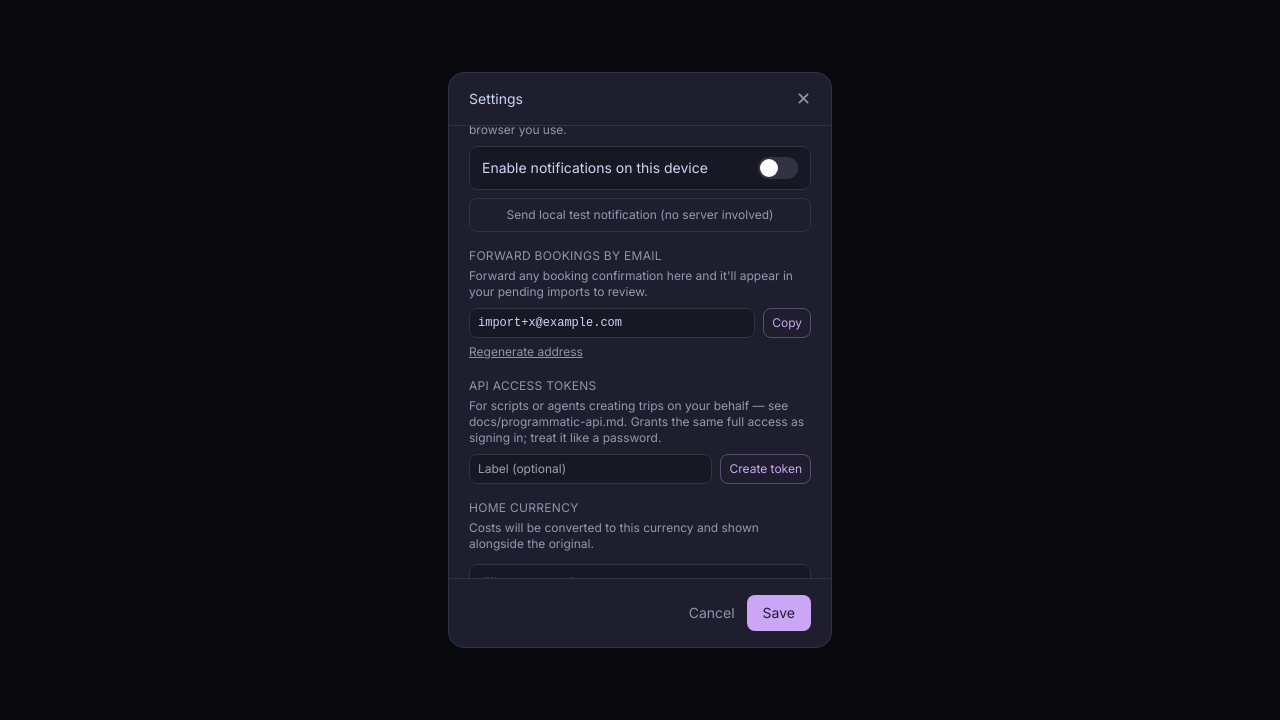
ImportAddress regenerate › shows an error message if rotation fails, without losing the old address
The width and height of the screenshot is (1280, 720).
(page scrolled)
Expected: the text "import+x@example.com" is shown, [469,308,755,338]
Click the button "Regenerate address" at (526, 352), box [469,344,583,360]
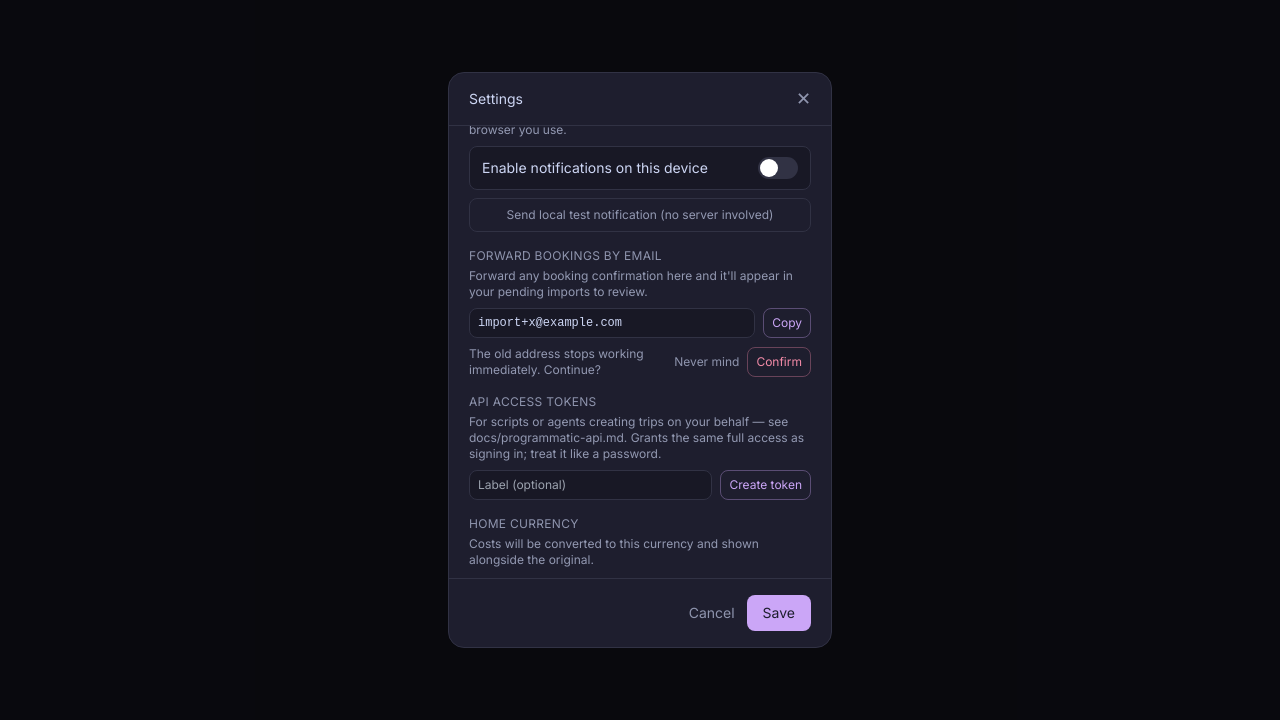
Click the button "Confirm" at (779, 362), box [747,347,811,377]
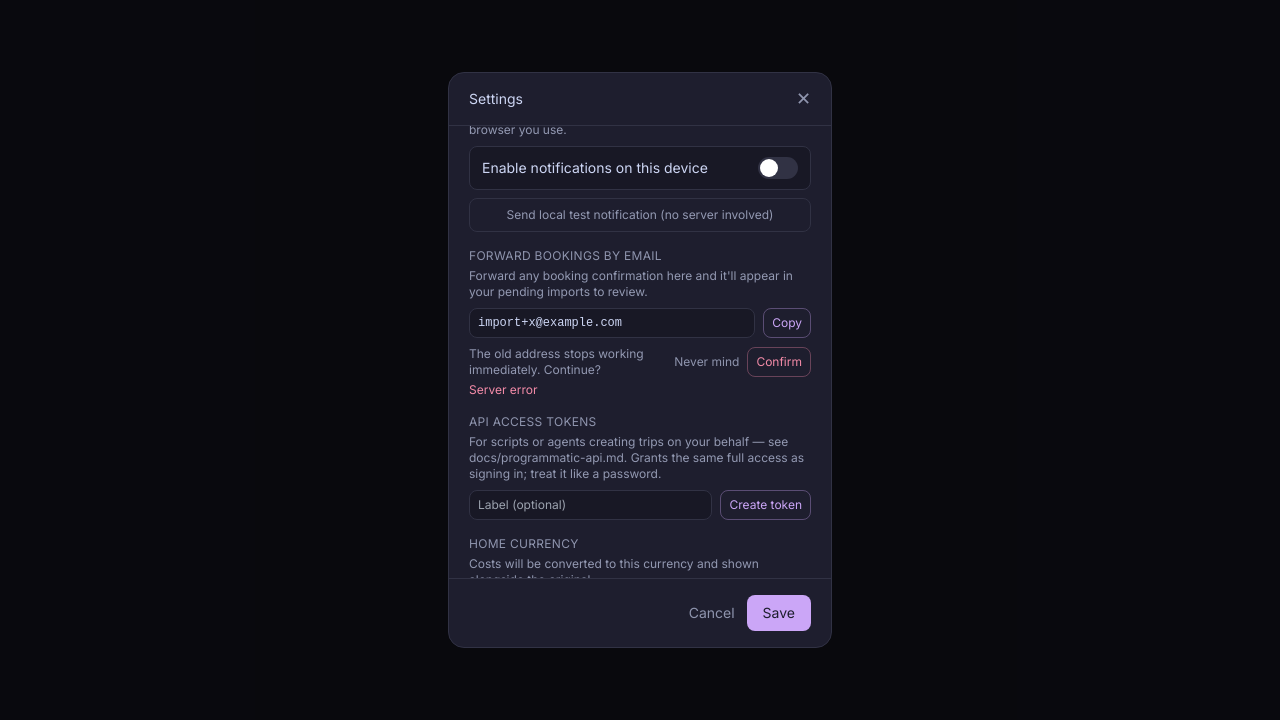
Expected: the text "import+x@example.com" is shown, [469,308,755,338]
Result: the text "Server error" is shown at [469,382,538,397]
